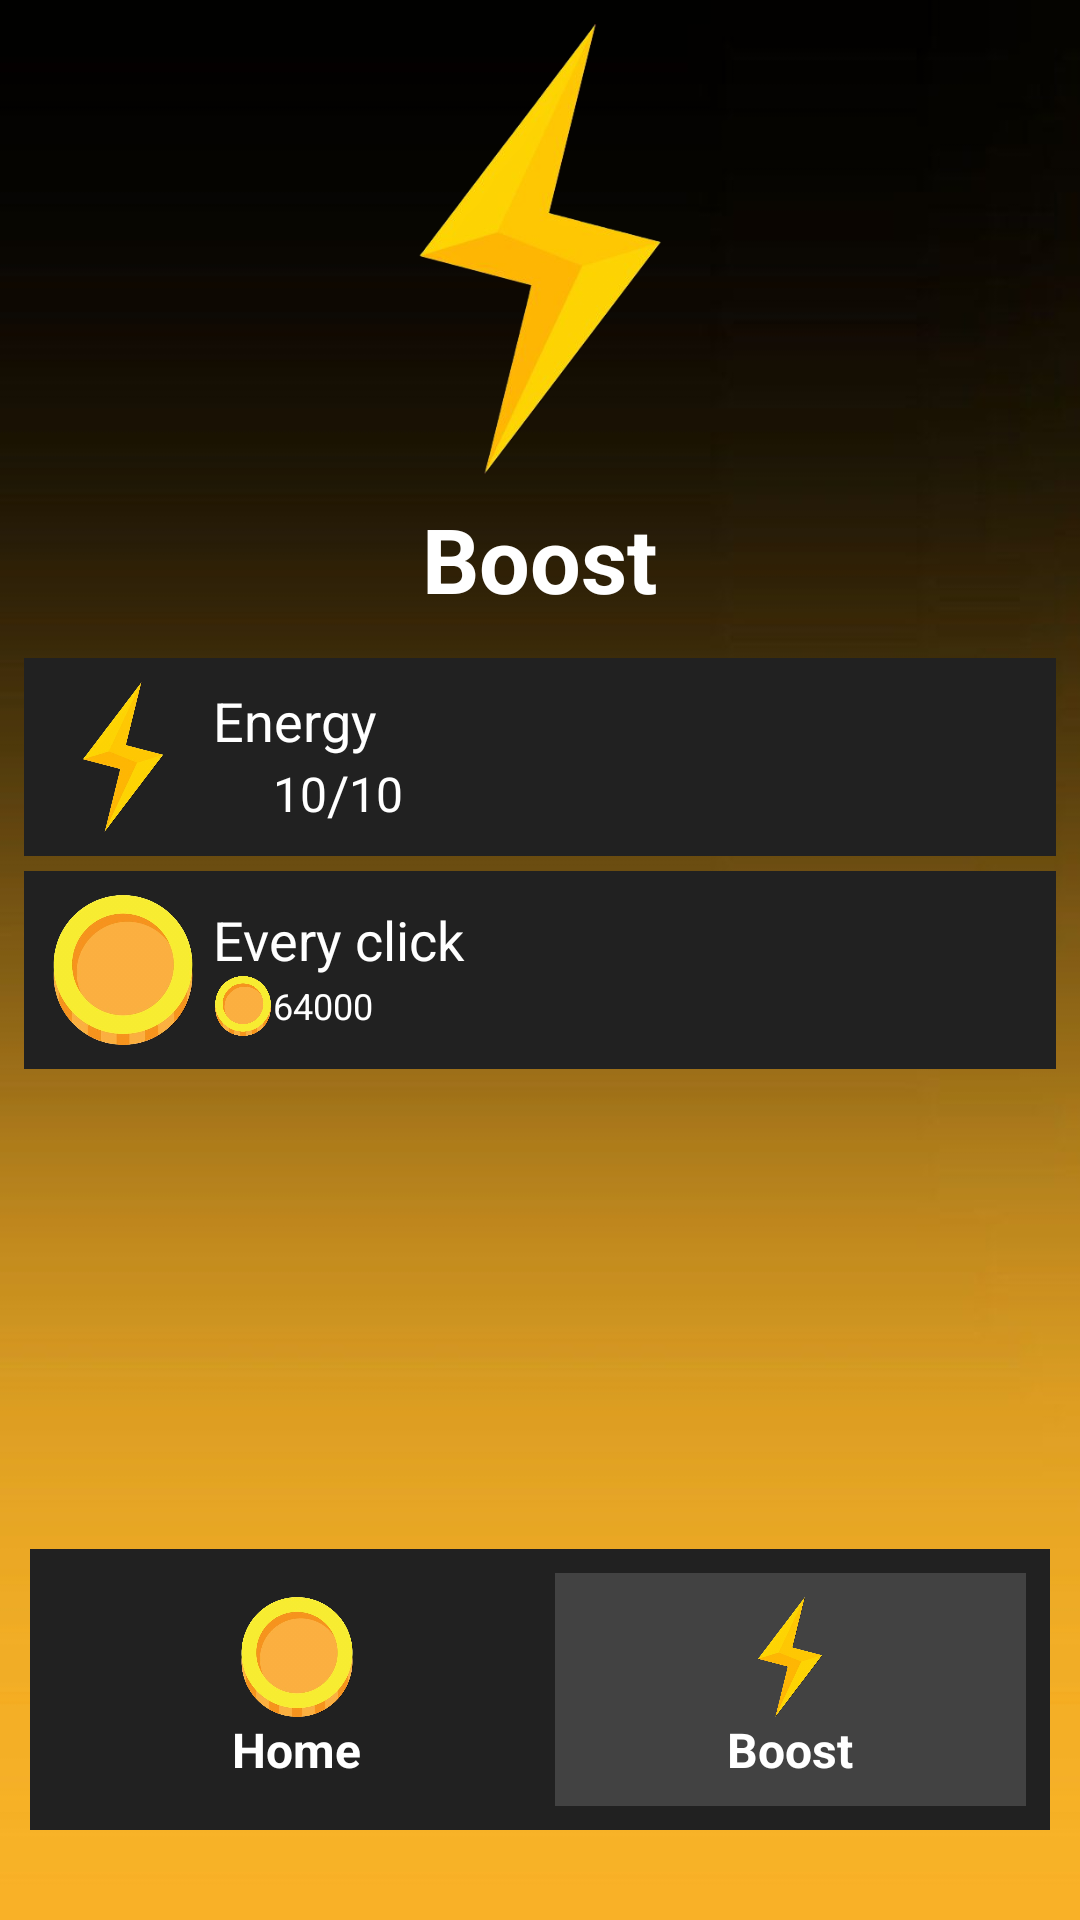

Point at icon controls on the screen. Image size 1080 x 1920, points as (x,y).
imagenumbercoin: (123,970), (243,1006), (297,1657)
